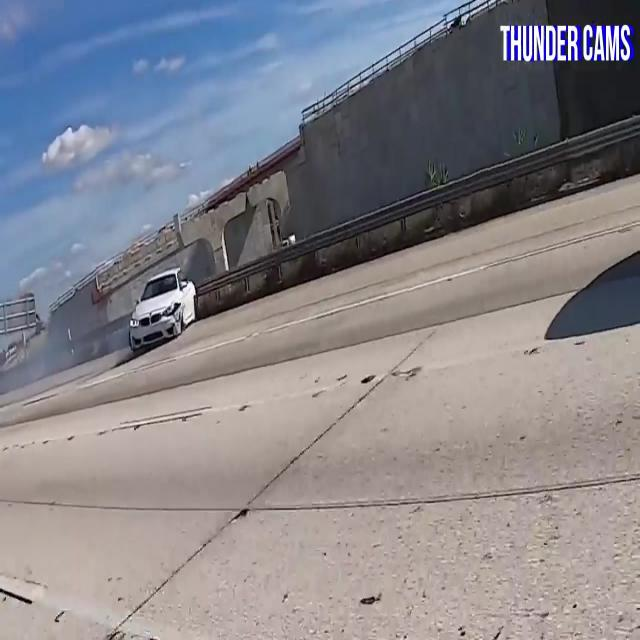accident: (114, 242, 211, 371)
